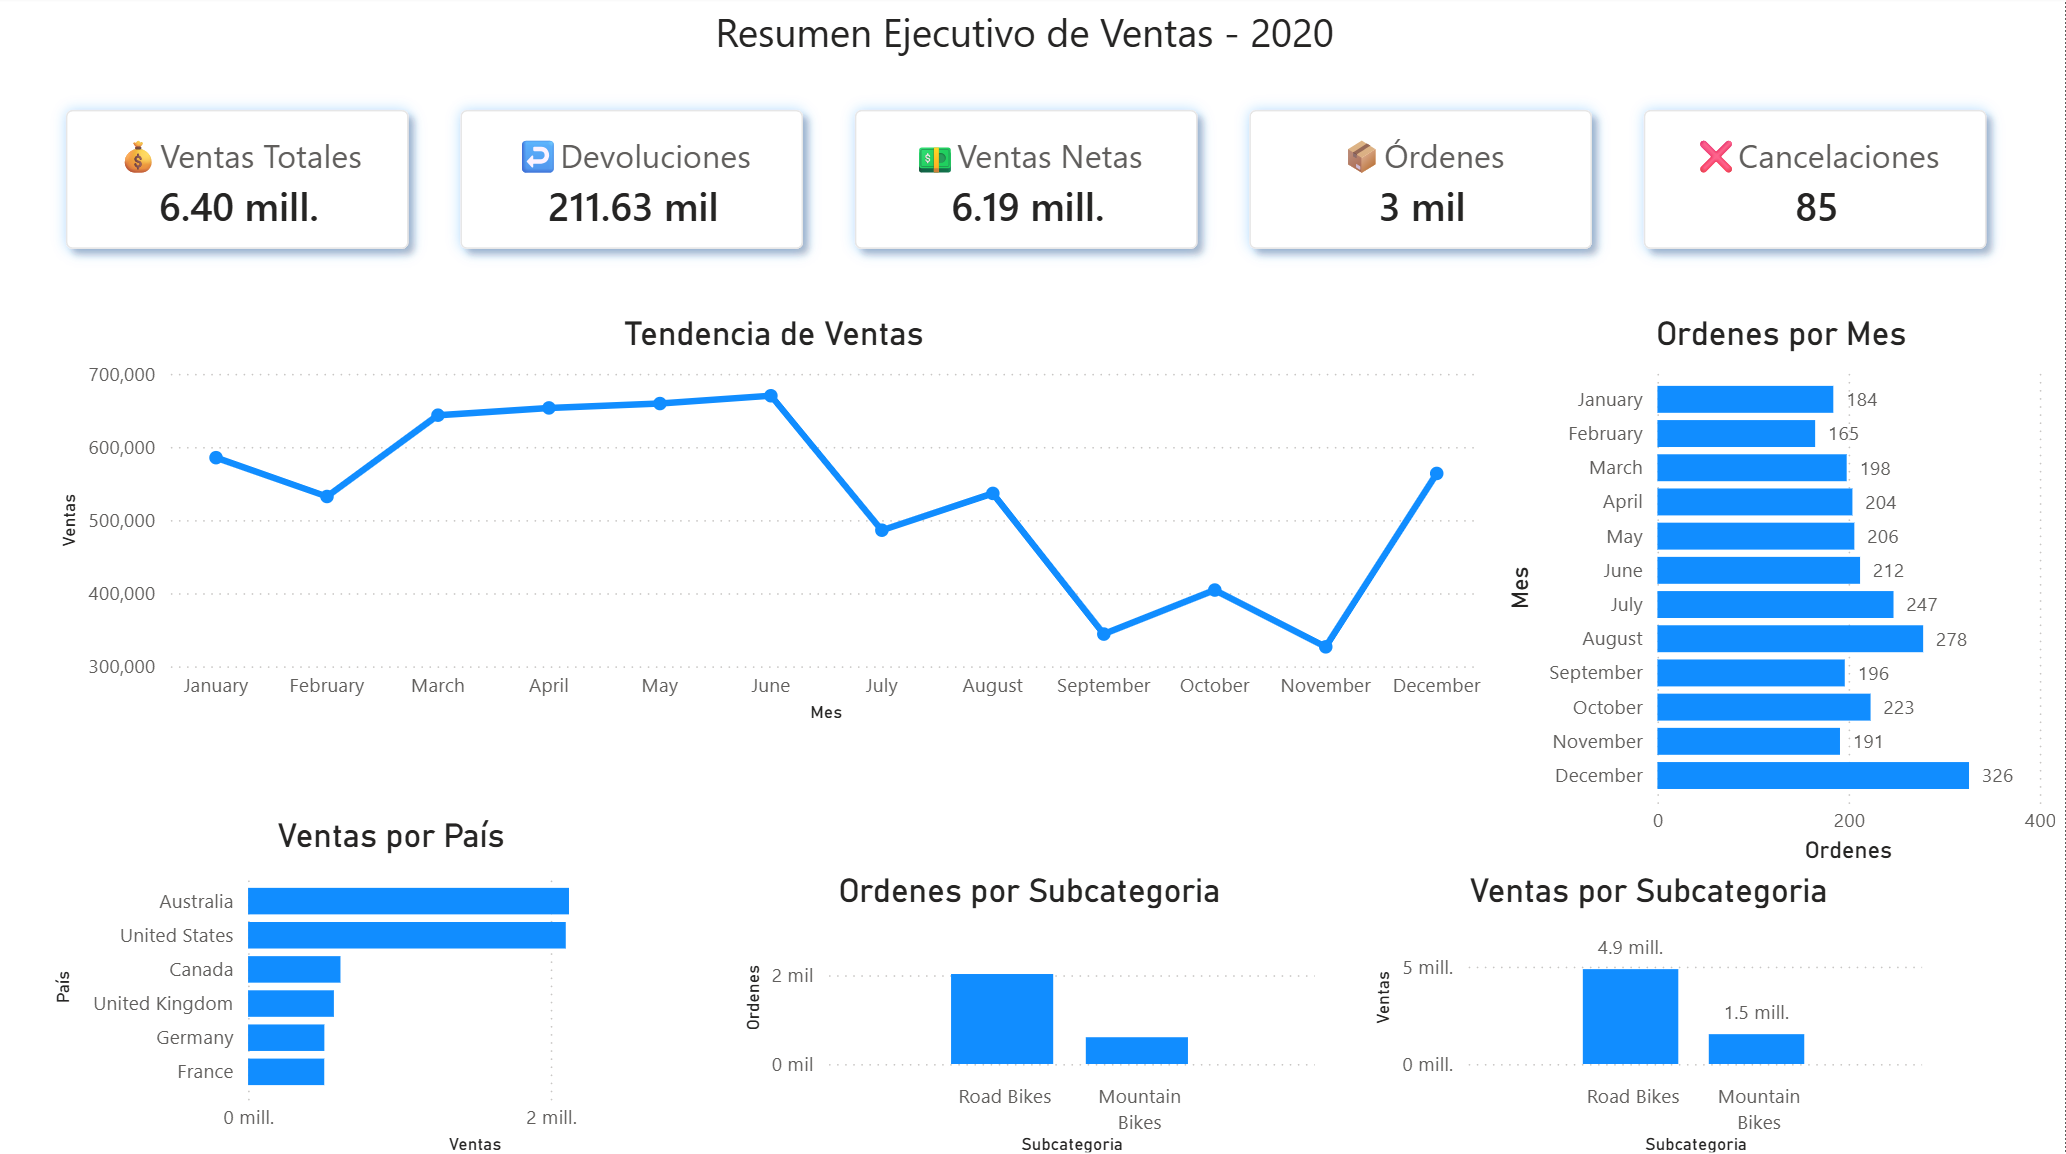

This screenshot's page, from the dashboard's own definition file:
{"tool":"powerbi","page":{"name":"Año 2020","canvas":[1280,720],"ordinal":1},"visuals":[{"type":"clusteredColumnChart","title":"Ordenes por Subcategoria","fields":{"Y":["Sum(Numero_de_Ordenes_por_Subcategoria_2020.ordenes_por_subcategoria)"],"Category":["Numero_de_Ordenes_por_Subcategoria_2020.SubcategoryName"]},"box":[458.4,540.6,363.1,179.4],"z":0},{"type":"cardVisual","fields":{"Data":["Sum(Total_de_ventas_2020.ventas_2020)","Sum(Total_de_devoluciones_2020.Total_de_devolucion)","Sum(Total_de_ventas_menos_devoluciones_2020.ventas_2020)","Sum(Ventas_realizadas_en_2020.Ventas_realizadas_en_2020)","Sum(Devoluciones_2020.Ordenes_Canceladas_2020)"]},"box":[15.1,40.6,1249.2,144.6],"z":1000},{"type":"barChart","title":"Ordenes por Mes","fields":{"Y":["Sum(Numero_de_ordenes_por_mes_2020.Ordenes)"],"Category":["Numero_de_ordenes_por_mes_2020.Mes"]},"box":[930.3,196.1,349.5,344.5],"z":2000},{"type":"lineChart","title":"Tendencia de Ventas","fields":{"Category":["Total_de_ventas_por_mes_2020.Mes"],"Y":["Sum(Total_de_ventas_por_mes_2020.Ventas)","select"]},"box":[35.3,196.1,893,256.9],"z":3000},{"type":"barChart","title":"Ventas por País","fields":{"Category":["Total_por_pais_2020.Country"],"Y":["Sum(Total_por_pais_2020.Ventas)"]},"box":[31.5,506.6,426.8,213.4],"z":4000},{"type":"columnChart","fields":{"Category":["Total_por_subcategoria_2020.SubcategoryName"],"Y":["Sum(Total_por_subcategoria_2020.Total_por_subcategoria)"]},"box":[848,540.6,349.5,179.4],"z":5000},{"type":"textbox","box":[425.4,0,422.7,45.2],"z":6000}]}

Visuals, with their boxes in screenshot pixels (x1, y1, x2, y2), scaled from the page's 1280x720 canvas onto the 2066x1154 screenshot:
"Ordenes por Subcategoria" clusteredColumnChart: <bbox>740, 866, 1326, 1153</bbox>
cardVisual - Sum(Total_de_ventas_2020.ventas_2020) x Sum(Total_de_devoluciones_2020.Total_de_devolucion): <bbox>24, 65, 2041, 297</bbox>
"Ordenes por Mes" barChart: <bbox>1502, 314, 2065, 866</bbox>
"Tendencia de Ventas" lineChart: <bbox>57, 314, 1498, 726</bbox>
"Ventas por País" barChart: <bbox>51, 812, 740, 1153</bbox>
columnChart - Total_por_subcategoria_2020.SubcategoryName x Sum(Total_por_subcategoria_2020.Total_por_subcategoria): <bbox>1369, 866, 1933, 1153</bbox>
textbox: <bbox>687, 0, 1369, 72</bbox>
